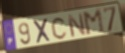7: (102, 5, 118, 33)
9: (18, 22, 32, 46)
C: (50, 16, 68, 41)
M: (81, 8, 106, 37)
N: (66, 13, 87, 39)
X: (32, 17, 53, 45)
